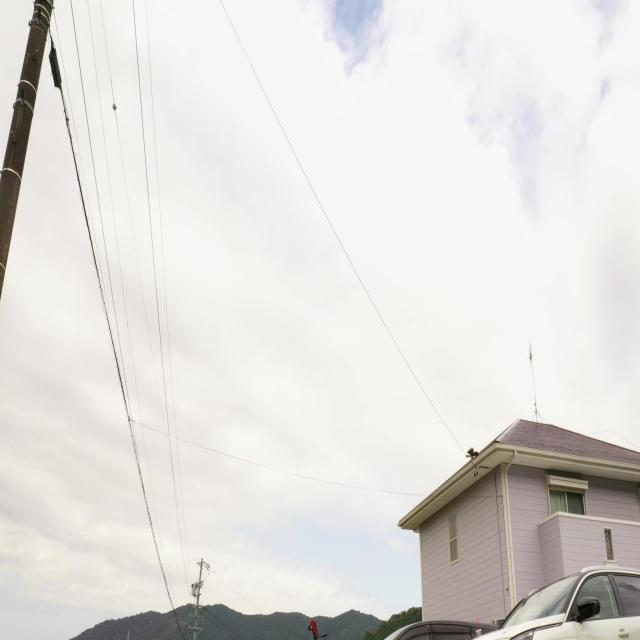Birds: (461, 441, 480, 467)
